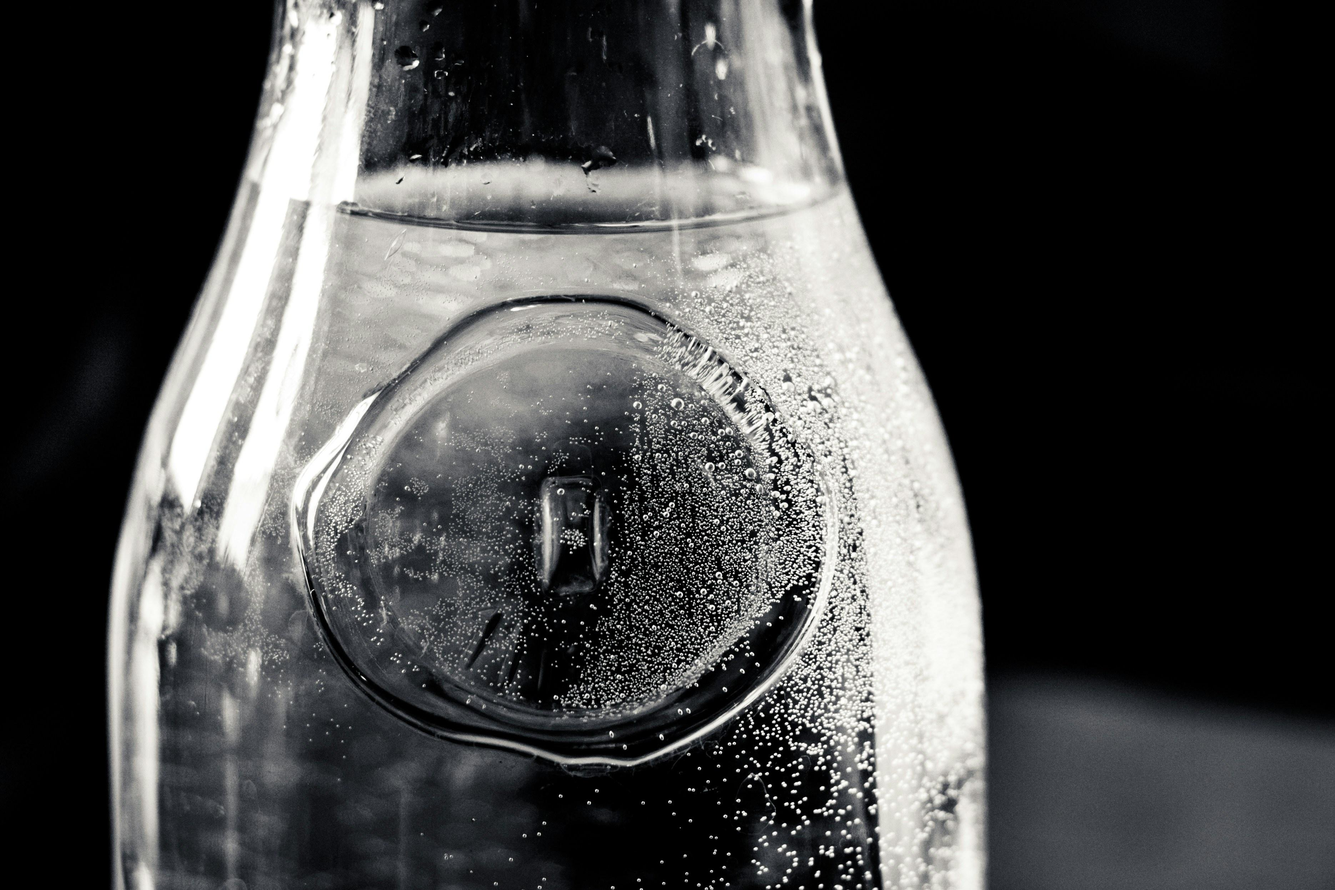Bottle-Detection: (75, 5, 1068, 887)
